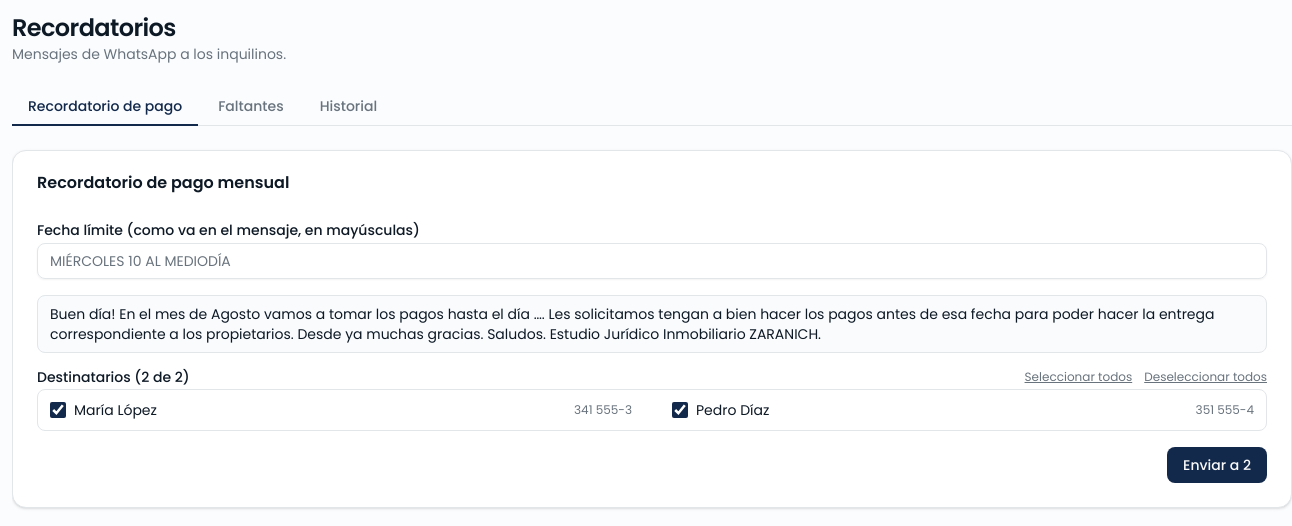
Recordatorios por WhatsApp › muestra el historial vacío al inicio
The width and height of the screenshot is (1292, 526).
Click the button "Historial" at (348, 107), box 304,88 -> 393,126
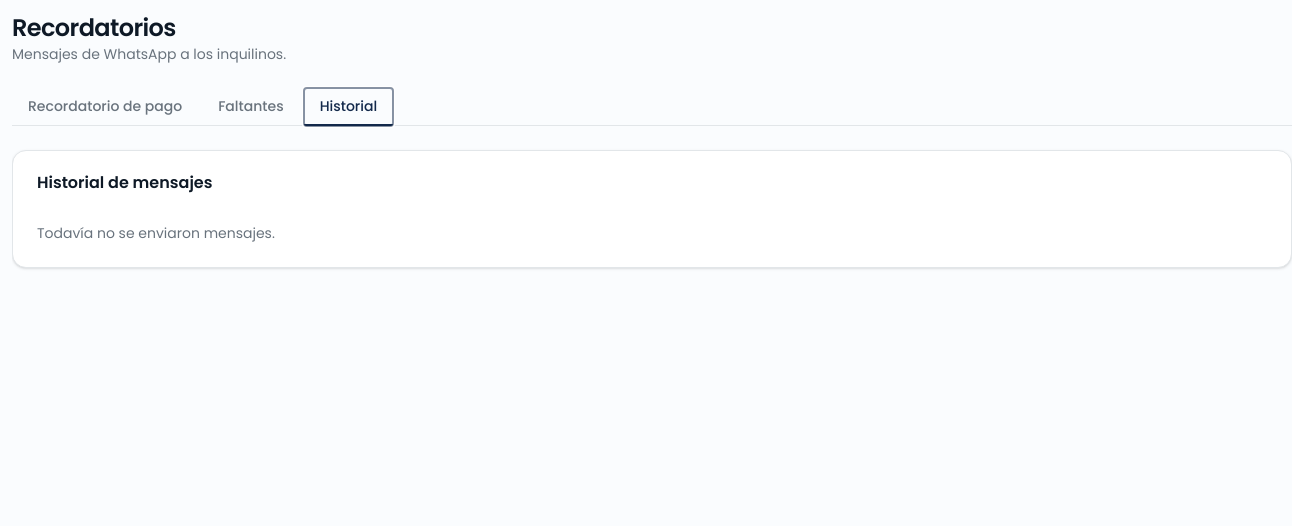
Now the text "Todavía no se enviaron mensajes." is shown, box 37,223 -> 275,243
